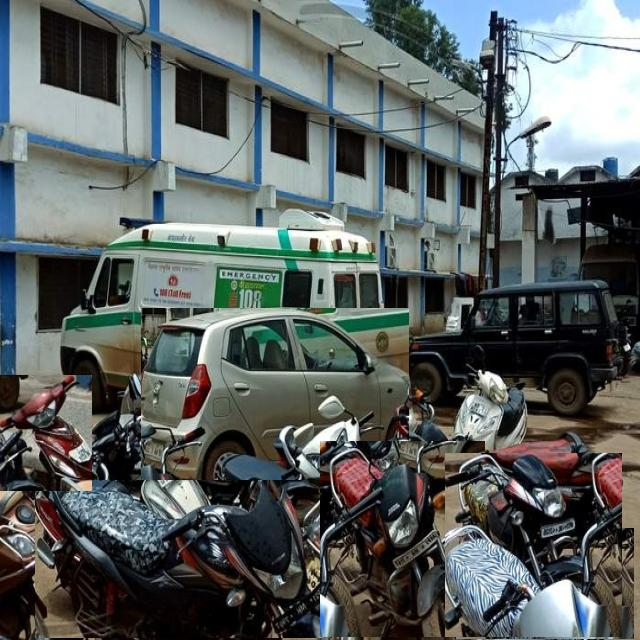car: (141, 308, 409, 498), (406, 280, 625, 414)
emergency: (61, 211, 385, 411)
motorcycle: (35, 480, 332, 638), (445, 453, 622, 637), (320, 441, 485, 637), (158, 395, 329, 519), (456, 528, 634, 640), (0, 376, 92, 491), (454, 365, 528, 450)
